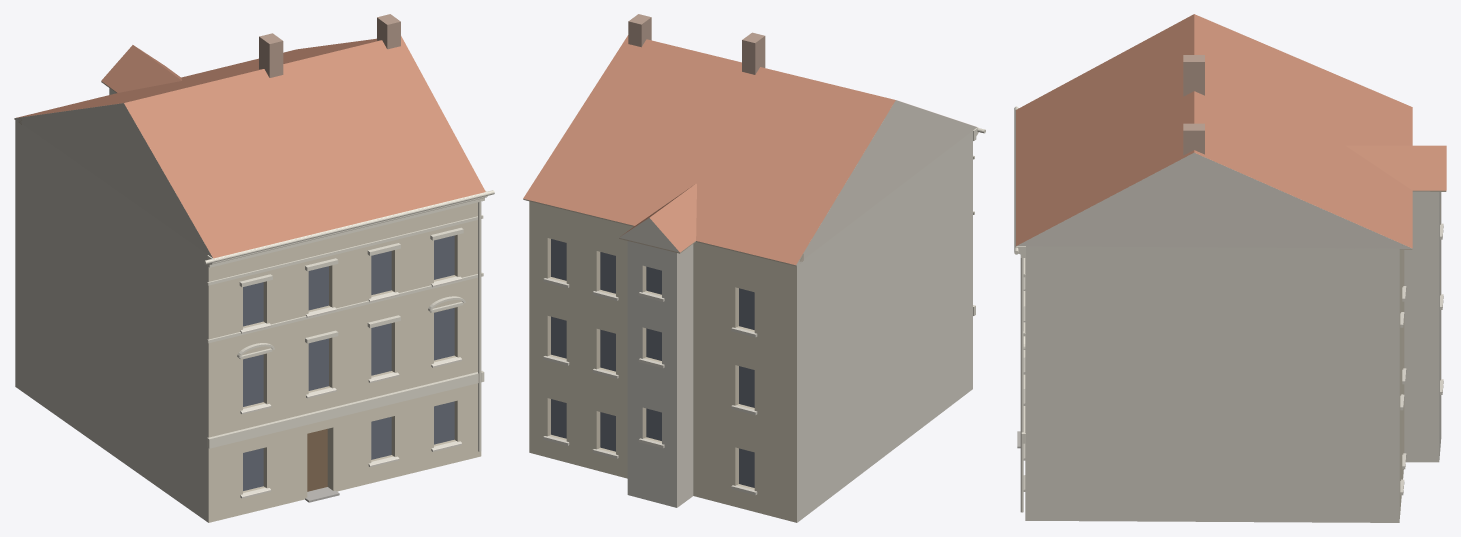
3 renders of one model, left to right at view 1: azimuth 30°, elevation 25°; view 2: azimuth 150°, elevation 25°; view 3: azimuth 270°, elevation 25°, orthographic. The views are drawn at different scales.
Parts seen in each view (by area): view 1: CP_987_Masonry, CP_987_Roof, CP_987_Gable_L_gable, CP_987_Cornice_string_0, CP_987_WingRoof_Stair_Tower, CP_987_Cornice_main_0, CP_987_Cornice_frieze_0, CP_987_Gutter, CP_987_Downpipe_0, CP_987_Chimney_1, CP_987_Cornice_sillband_0, CP_987_Chimney_0; view 2: CP_987_Masonry, CP_987_Roof, CP_987_Gable_L_gable, CP_987_WingRoof_Stair_Tower, CP_987_Chimney_1, CP_987_Chimney_0; view 3: CP_987_Masonry, CP_987_Roof, CP_987_Gable_R_gable, CP_987_WingRoof_Stair_Tower, CP_987_Downpipe_0, CP_987_Chimney_1, CP_987_Chimney_0.
Part boxes in pixels (x1=…): CP_987_Masonry: x1=15, y1=88, x2=481, y2=522; CP_987_Roof: x1=16, y1=36, x2=485, y2=258; CP_987_Gable_L_gable: x1=14, y1=103, x2=212, y2=257; CP_987_Cornice_string_0: x1=207, y1=370, x2=484, y2=448; CP_987_WingRoof_Stair_Tower: x1=101, y1=45, x2=181, y2=92; CP_987_Cornice_main_0: x1=207, y1=190, x2=487, y2=267; CP_987_Cornice_frieze_0: x1=207, y1=215, x2=483, y2=285; CP_987_Gutter: x1=204, y1=190, x2=494, y2=264; CP_987_Downpipe_0: x1=478, y1=199, x2=481, y2=451; CP_987_Chimney_1: x1=259, y1=33, x2=283, y2=77; CP_987_Cornice_sillband_0: x1=207, y1=272, x2=483, y2=343; CP_987_Chimney_0: x1=377, y1=14, x2=400, y2=49; CP_987_Masonry: x1=529, y1=131, x2=972, y2=522; CP_987_Roof: x1=523, y1=35, x2=895, y2=265; CP_987_Gable_L_gable: x1=790, y1=100, x2=976, y2=265; CP_987_WingRoof_Stair_Tower: x1=619, y1=183, x2=696, y2=252; CP_987_Chimney_1: x1=742, y1=32, x2=765, y2=74; CP_987_Chimney_0: x1=628, y1=14, x2=651, y2=47; CP_987_Masonry: x1=1025, y1=191, x2=1441, y2=522; CP_987_Roof: x1=1016, y1=14, x2=1412, y2=248; CP_987_Gable_R_gable: x1=1016, y1=152, x2=1412, y2=249; CP_987_WingRoof_Stair_Tower: x1=1346, y1=145, x2=1446, y2=190; CP_987_Downpipe_0: x1=1020, y1=258, x2=1023, y2=512; CP_987_Chimney_1: x1=1183, y1=55, x2=1204, y2=96; CP_987_Chimney_0: x1=1183, y1=123, x2=1204, y2=155.
Size of the model in its own units: 12.75 by 16.42 by 16.13.
